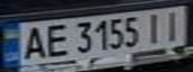1: (90, 17, 112, 52)
3: (72, 19, 93, 54)
5: (121, 14, 145, 47), (106, 16, 127, 51)
A: (18, 24, 48, 61)
E: (39, 21, 72, 59)
I: (157, 8, 187, 42), (142, 10, 169, 43)
